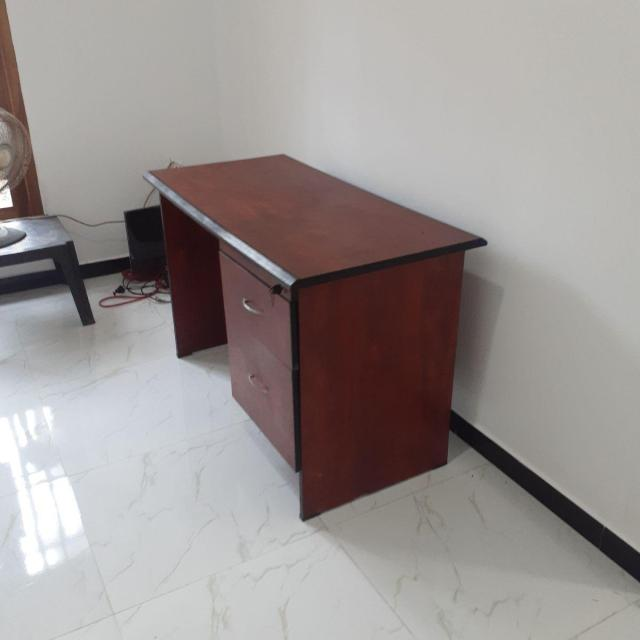table: (128, 146, 507, 545)
